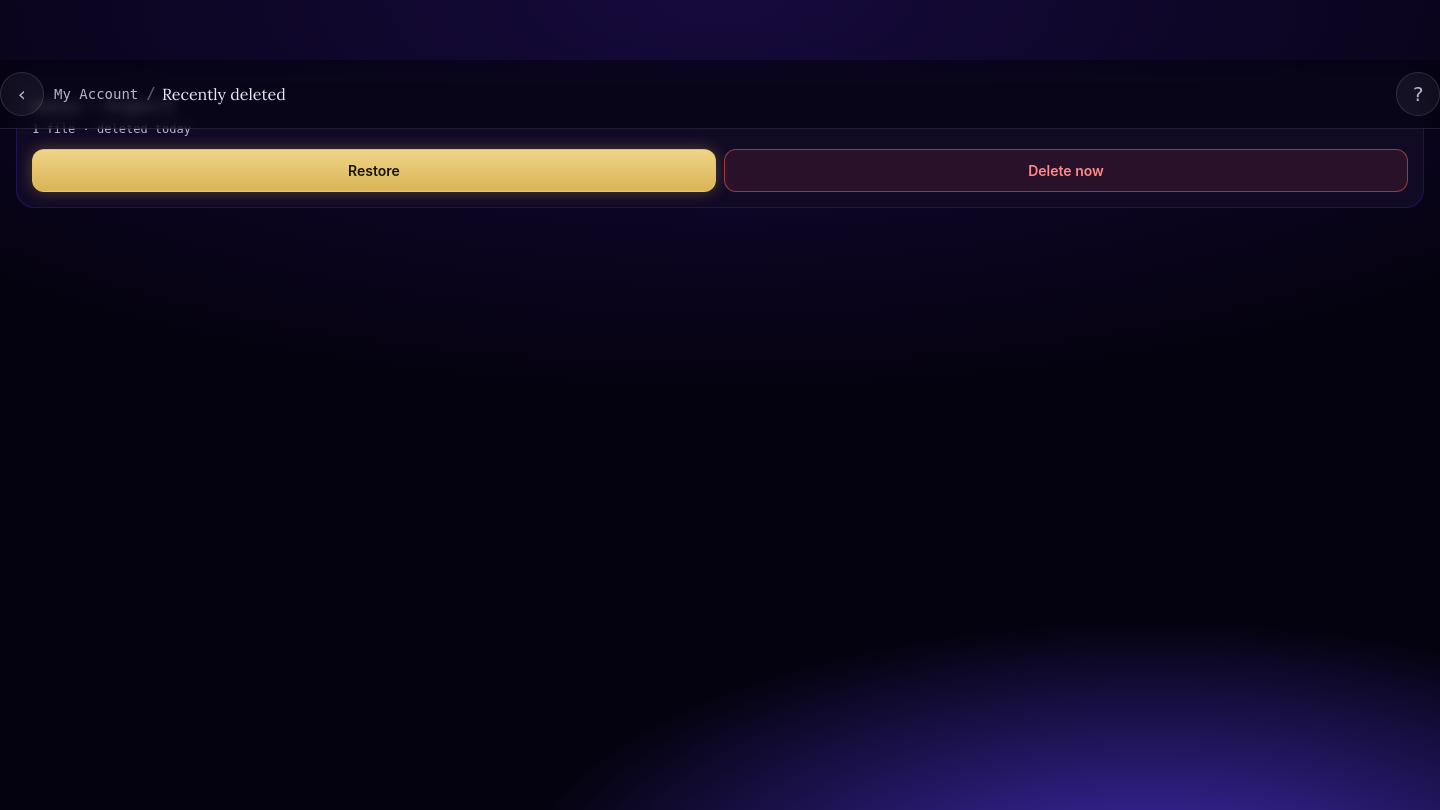
RecentlyDeletedPage — project cards › says "1 file" in the purge confirmation of a single-file folder
This screenshot has width=1440, height=810.
Click the button "Delete now" at (1066, 170), box [724,149,1408,192]
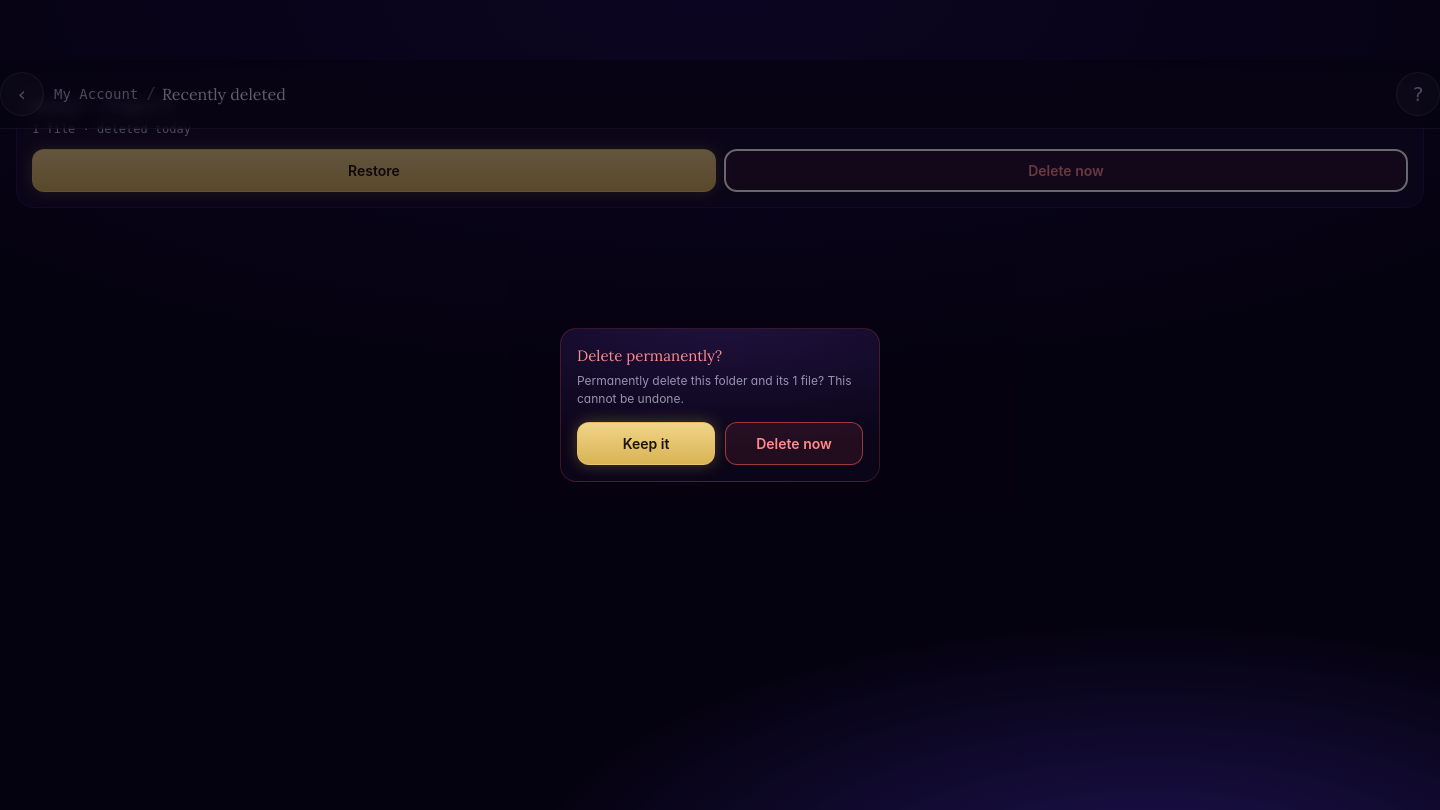
Result: the dialog shows "Permanently delete this folder and its 1 file? This cannot be undone." at [577,373,852,406]
